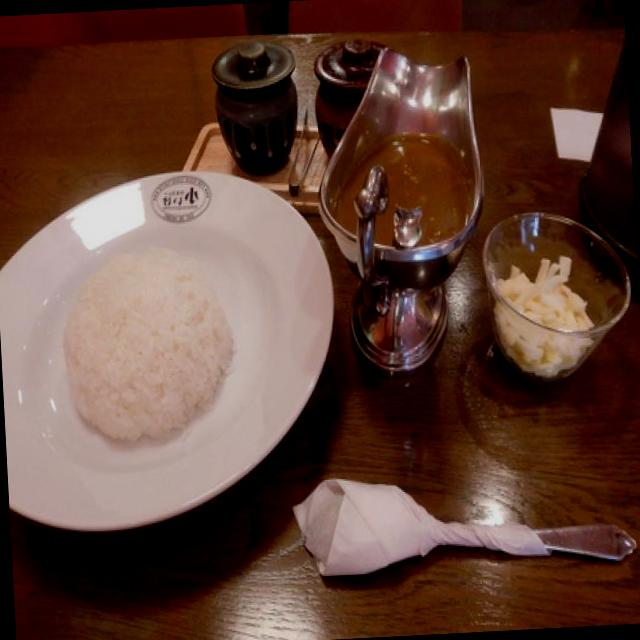Rice: (62, 240, 217, 448)
